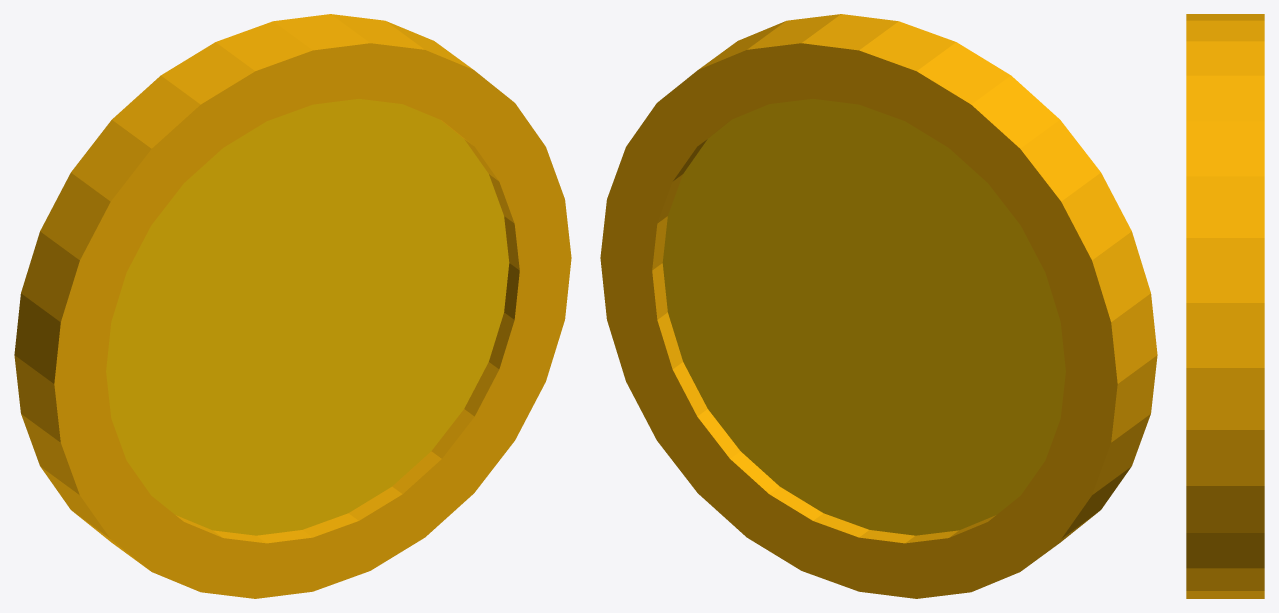
Rendered from coin.fbx.
3 views of the same model, side by side, from view 1: azimuth 30°, elevation 25°; view 2: azimuth 150°, elevation 25°; view 3: azimuth 270°, elevation 25° (orthographic). The views are drawn at different scales.
Parts seen in each view (by area): view 1: Cube; view 2: Cube; view 3: Cube.
Boxes of the visible parts, x1,y1,x2,y2 form: Cube: (14,14,571,598); Cube: (600,14,1157,598); Cube: (1186,14,1264,598).
Bounding box in the file's own units: 26.72 × 200 × 200.
1 material, 1 textured.
